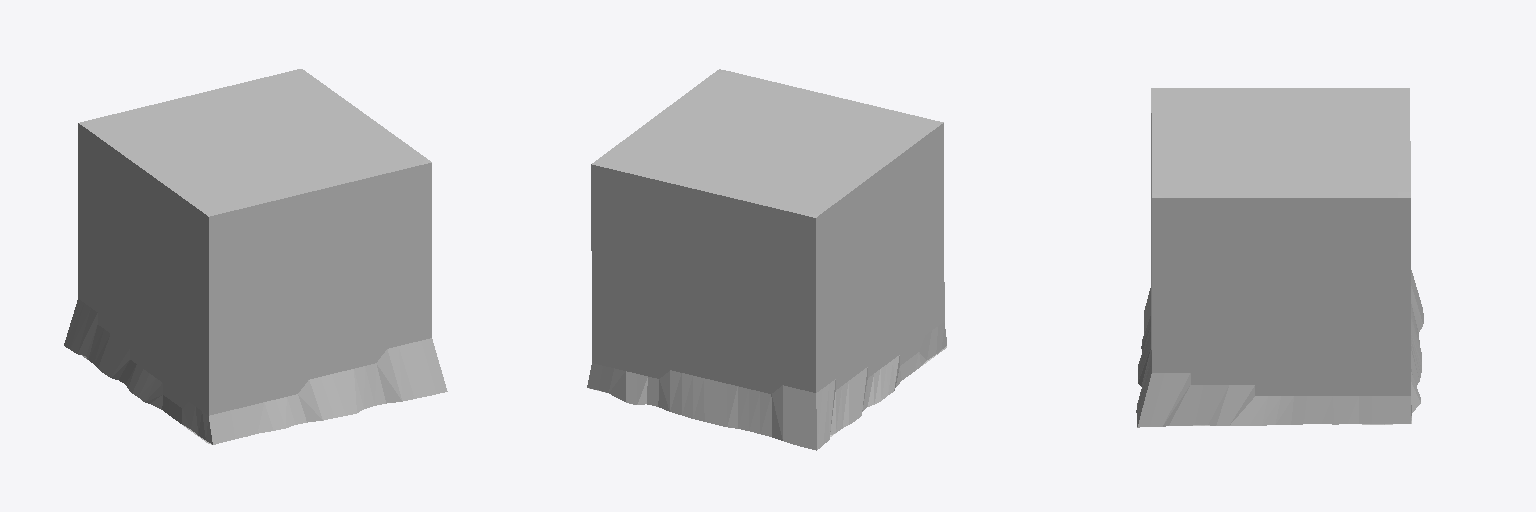
The model's file is mod0179.obj.
3 renders of one model, left to right at view 1: azimuth 30°, elevation 25°; view 2: azimuth 150°, elevation 25°; view 3: azimuth 270°, elevation 25°, orthographic.
Visible parts, largest first — view 1: Box001; view 2: Box001; view 3: Box001.
Part boxes in pixels (left/top/right/bottom): Box001: left=64, top=69, right=447, bottom=444; Box001: left=587, top=69, right=946, bottom=450; Box001: left=1136, top=88, right=1423, bottom=427.
Bounding box in the file's own units: 0.5799 × 0.5218 × 0.5979.